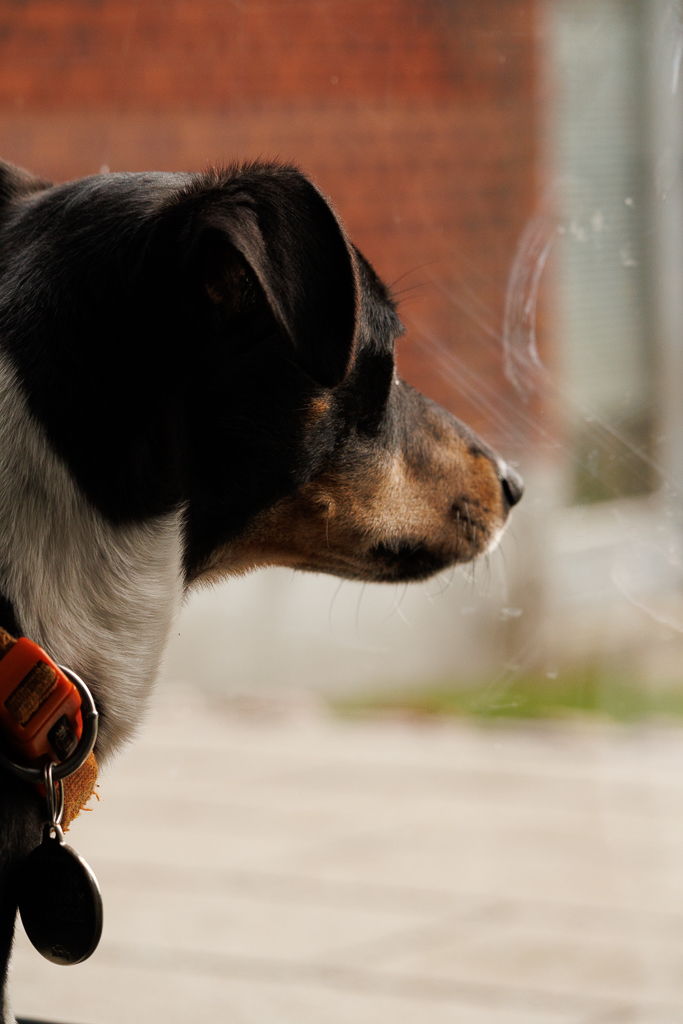Dog: (0, 140, 541, 1024)
